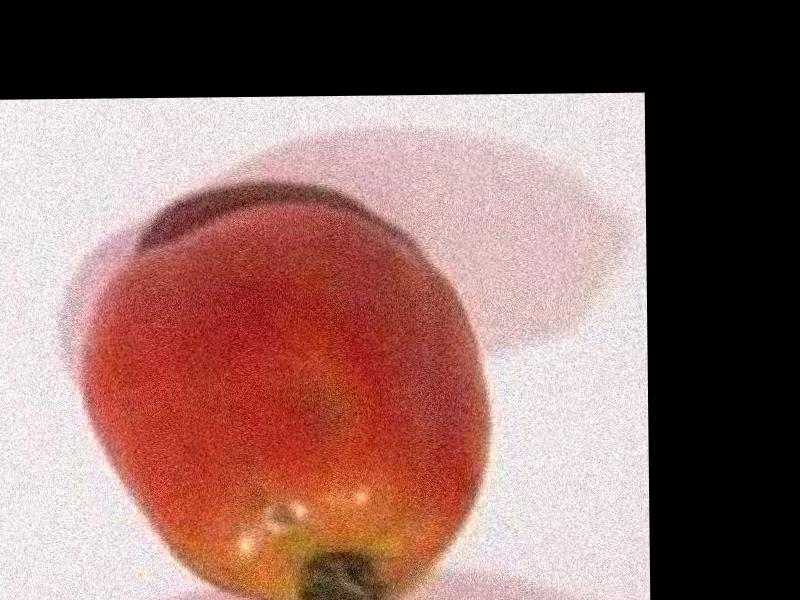Tomato: (81, 209, 489, 600)
